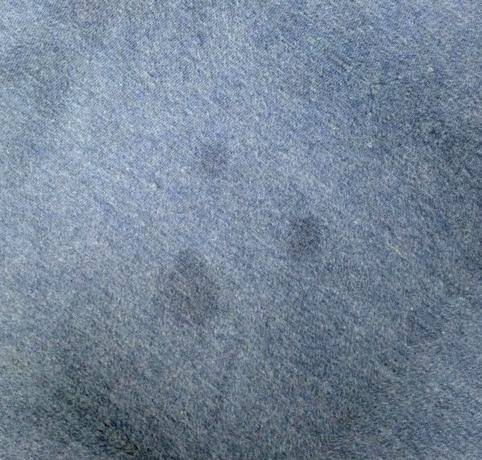stain: (146, 243, 231, 336), (281, 203, 336, 269), (192, 129, 242, 175)
